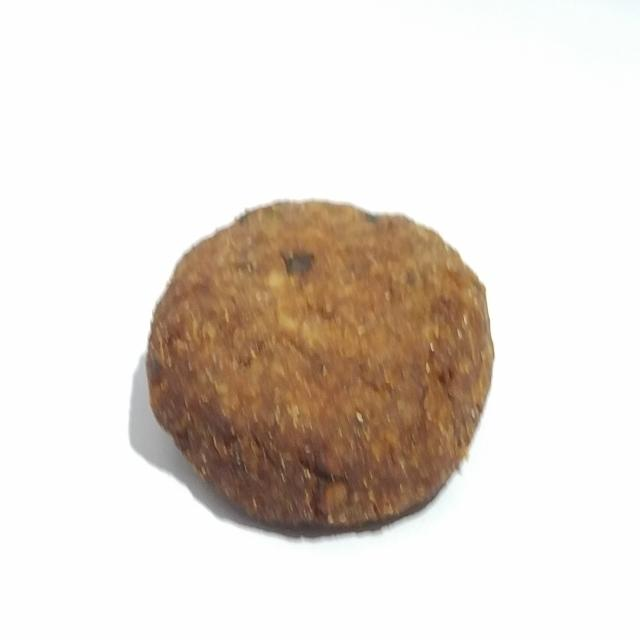Food: (133, 186, 504, 548)
